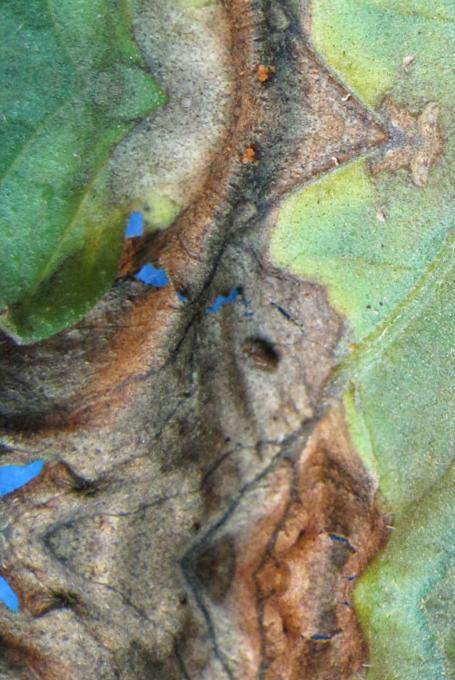Tomato leaf late blight: (0, 58, 455, 622)
